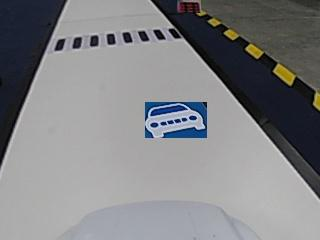crosswalk: (53, 27, 178, 52)
